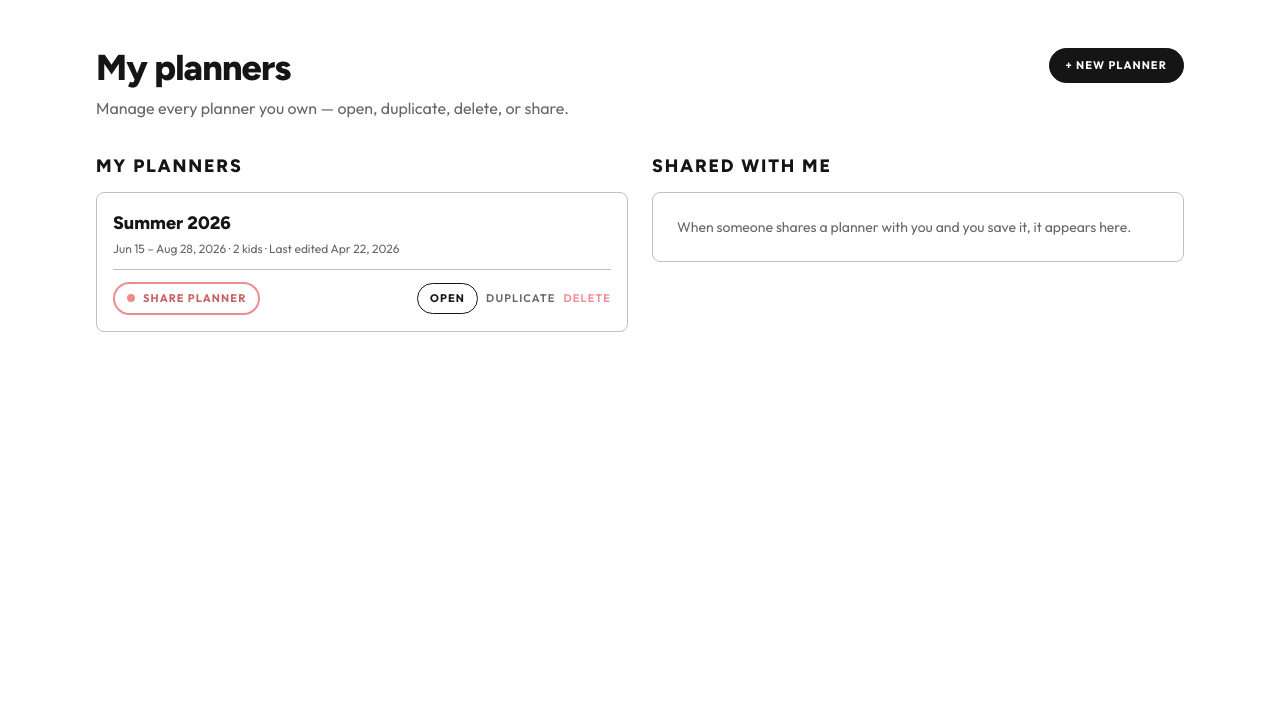
Test: MyPlannersClient › opens the delete confirm modal when Delete is clicked
Step 1. Click the button "Delete" → (587, 298), box [564, 290, 611, 306]
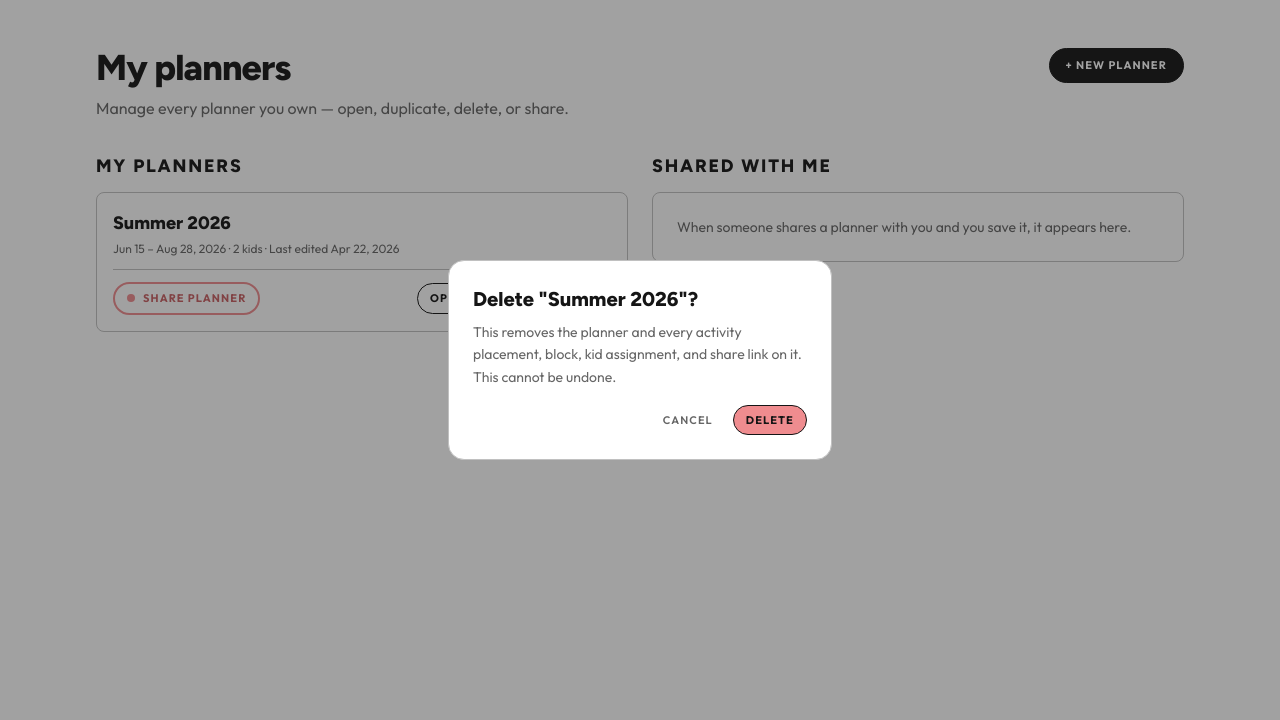
Check: the heading "Delete \"Summer 2026\"?" is shown, box [473, 287, 698, 311]
